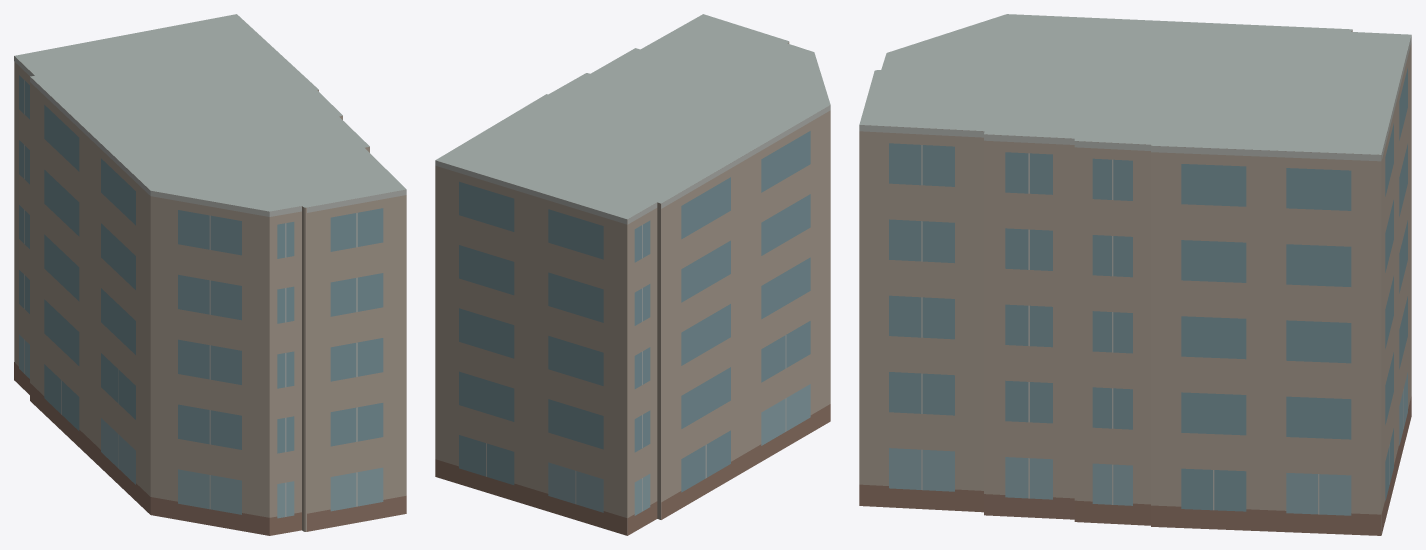
File: survey-upis-32989219.glb
The picture shows the model from 3 angles, left to right: view 1: azimuth 30°, elevation 25°; view 2: azimuth 150°, elevation 25°; view 3: azimuth 270°, elevation 25°; orthographic projection. The views are drawn at different scales.
Parts seen in each view (by area): view 1: survey-upis-32989219.tmp; view 2: survey-upis-32989219.tmp; view 3: survey-upis-32989219.tmp.
Boxes of the visible parts, x1,y1,x2,y2 form: survey-upis-32989219.tmp: (14,14,406,535); survey-upis-32989219.tmp: (435,14,830,535); survey-upis-32989219.tmp: (859,14,1411,535).
Bounding box in the file's own units: 11.47 × 14.45 × 19.
